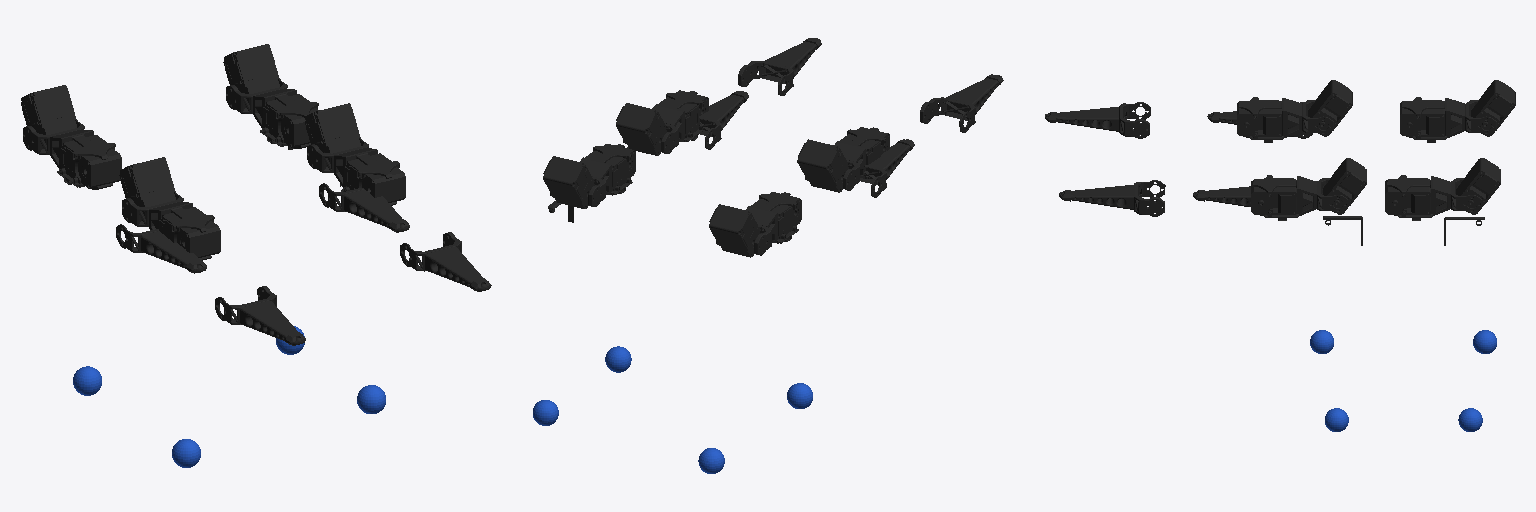
URDF robot description (optimus_primal):
<?xml version="1.0"?>
<robot name="optimus_primal">

  <!--
    Optimus Primal Quadruped URDF
    ================================
    Body frame dimensions (approximate from measurements):
      Rear hip spacing (L-R):  160.255 mm = 0.160255 m
      Front hip spacing (L-R): 131.673 mm = 0.131673 m
      Front-to-rear hip spacing: 181.5 mm = 0.1815 m

    Leg geometry:
      Femur (upper_link): 78 mm = 0.078 m
      Tibia (lower_link): 104 mm = 0.104 m

    Standing pose angles (from servo diff values):
      Hip:  ~35 deg from vertical
      Knee: ~80 deg from hip

    Leg naming convention (from robot's forward-facing perspective):
      FL = front-left, FR = front-right
      RL = rear-left,  RR = rear-right

    TPU sock friction values (TPU on hard floor):
      Sliding friction: 1.0  (typical range 0.8-1.2)
      Torsional:        0.01
      Rolling:          0.002
      condim=4 enables full friction cone
  -->

  <mujoco>
    <compiler balanceinertia="true" discardvisual="true"/>
    <default>
      <!-- Default for all structural geoms (PETG-CF frame, ABS links) -->
      <joint damping="0.05" armature="0.01"/>
      <geom friction="0.6 0.01 0.001" condim="3" contype="1" conaffinity="1"/>
    </default>
    <default class="foot">
      <!-- TPU sock contact: grippy, soft contact, full friction cone -->
      <geom friction="1.0 0.01 0.002"
            condim="4"
            contype="1"
            conaffinity="1"
            solimp="0.9 0.95 0.001"
            solref="0.02 1"/>
    </default>
  </mujoco>

  <!-- ==================== BASE LINK ==================== -->
  <link name="base_link">
    <inertial>
      <mass value="0.672"/>
      <origin xyz="0 0 0" rpy="0 0 0"/>
      <inertia ixx="0.00672" iyy="0.00896" izz="0.01120"
               ixy="0.0"     ixz="0.0"     iyz="0.0"/>
    </inertial>
    <visual>
      <origin xyz="0 0 0" rpy="0 0 0"/>
      <geometry>
        <mesh filename="meshes/base.stl" scale="1 1 1"/>
      </geometry>
      <material name="dark_gray">
        <color rgba="0.2 0.2 0.2 1.0"/>
      </material>
    </visual>
    <collision>
      <origin xyz="0 0 0" rpy="0 0 0"/>
      <geometry>
        <box size="0.22 0.18 0.05"/>
      </geometry>
    </collision>
  </link>

  <!-- ==================== FRONT-LEFT LEG ==================== -->

  <link name="upper_link_fl">
    <inertial>
      <mass value="0.085"/>
      <origin xyz="0 0 -0.039" rpy="0 0 0"/>
      <inertia ixx="0.000050" iyy="0.000085" izz="0.000050"
               ixy="0.0"      ixz="0.0"      iyz="0.0"/>
    </inertial>
    <visual>
      <origin xyz="0 0 0" rpy="0 0 0"/>
      <geometry>
        <mesh filename="meshes/upper_link.stl" scale="1 1 1"/>
      </geometry>
      <material name="dark_gray">
        <color rgba="0.2 0.2 0.2 1.0"/>
      </material>
    </visual>
    <collision>
      <origin xyz="0 0 -0.039" rpy="0 0 0"/>
      <geometry>
        <cylinder radius="0.012" length="0.078"/>
      </geometry>
    </collision>
  </link>

  <link name="lower_link_fl">
    <inertial>
      <mass value="0.065"/>
      <origin xyz="0 0 -0.052" rpy="0 0 0"/>
      <inertia ixx="0.000065" iyy="0.000122" izz="0.000065"
               ixy="0.0"      ixz="0.0"      iyz="0.0"/>
    </inertial>
    <visual>
      <origin xyz="0 0 0" rpy="0 0 0"/>
      <geometry>
        <mesh filename="meshes/lower_link.stl" scale="1 1 1"/>
      </geometry>
      <material name="dark_gray">
        <color rgba="0.2 0.2 0.2 1.0"/>
      </material>
    </visual>
    <collision>
      <origin xyz="0 0 -0.052" rpy="0 0 0"/>
      <geometry>
        <cylinder radius="0.010" length="0.104"/>
      </geometry>
    </collision>
  </link>

  <!-- FL foot — TPU sock sphere -->
  <link name="foot_fl">
    <inertial>
      <mass value="0.005"/>
      <origin xyz="0 0 0" rpy="0 0 0"/>
      <inertia ixx="0.000001" iyy="0.000001" izz="0.000001"
               ixy="0.0"      ixz="0.0"      iyz="0.0"/>
    </inertial>
    <visual>
      <origin xyz="0 0 0" rpy="0 0 0"/>
      <geometry><sphere radius="0.012"/></geometry>
      <material name="tpu_blue"><color rgba="0.2 0.4 0.8 1.0"/></material>
    </visual>
    <collision>
      <origin xyz="0 0 0" rpy="0 0 0"/>
      <geometry><sphere radius="0.012"/></geometry>
    </collision>
  </link>

  <joint name="hip_fl" type="revolute">
    <parent link="base_link"/>
    <child link="upper_link_fl"/>
    <origin xyz="0.0908 0.0658 -0.015" rpy="0 0 0"/>
    <axis xyz="0 1 0"/>
    <limit lower="-1.5708" upper="1.5708" effort="2.5" velocity="5.0"/>
    <dynamics damping="0.05" friction="0.01"/>
  </joint>

  <joint name="knee_fl" type="revolute">
    <parent link="upper_link_fl"/>
    <child link="lower_link_fl"/>
    <origin xyz="0 0 -0.078" rpy="0 0 0"/>
    <axis xyz="0 1 0"/>
    <limit lower="-2.0944" upper="0.0" effort="2.5" velocity="5.0"/>
    <dynamics damping="0.05" friction="0.01"/>
  </joint>

  <joint name="foot_joint_fl" type="fixed">
    <parent link="lower_link_fl"/>
    <child link="foot_fl"/>
    <origin xyz="0 0 -0.104" rpy="0 0 0"/>
  </joint>

  <!-- ==================== FRONT-RIGHT LEG ==================== -->

  <link name="upper_link_fr">
    <inertial>
      <mass value="0.085"/>
      <origin xyz="0 0 -0.039" rpy="0 0 0"/>
      <inertia ixx="0.000050" iyy="0.000085" izz="0.000050"
               ixy="0.0"      ixz="0.0"      iyz="0.0"/>
    </inertial>
    <visual>
      <origin xyz="0 0 0" rpy="0 0 0"/>
      <geometry>
        <mesh filename="meshes/upper_link.stl" scale="1 1 1"/>
      </geometry>
      <material name="dark_gray">
        <color rgba="0.2 0.2 0.2 1.0"/>
      </material>
    </visual>
    <collision>
      <origin xyz="0 0 -0.039" rpy="0 0 0"/>
      <geometry>
        <cylinder radius="0.012" length="0.078"/>
      </geometry>
    </collision>
  </link>

  <link name="lower_link_fr">
    <inertial>
      <mass value="0.065"/>
      <origin xyz="0 0 -0.052" rpy="0 0 0"/>
      <inertia ixx="0.000065" iyy="0.000122" izz="0.000065"
               ixy="0.0"      ixz="0.0"      iyz="0.0"/>
    </inertial>
    <visual>
      <origin xyz="0 0 0" rpy="0 0 0"/>
      <geometry>
        <mesh filename="meshes/lower_link.stl" scale="1 1 1"/>
      </geometry>
      <material name="dark_gray">
        <color rgba="0.2 0.2 0.2 1.0"/>
      </material>
    </visual>
    <collision>
      <origin xyz="0 0 -0.052" rpy="0 0 0"/>
      <geometry>
        <cylinder radius="0.010" length="0.104"/>
      </geometry>
    </collision>
  </link>

  <link name="foot_fr">
    <inertial>
      <mass value="0.005"/>
      <origin xyz="0 0 0" rpy="0 0 0"/>
      <inertia ixx="0.000001" iyy="0.000001" izz="0.000001"
               ixy="0.0"      ixz="0.0"      iyz="0.0"/>
    </inertial>
    <visual>
      <origin xyz="0 0 0" rpy="0 0 0"/>
      <geometry><sphere radius="0.012"/></geometry>
      <material name="tpu_blue"><color rgba="0.2 0.4 0.8 1.0"/></material>
    </visual>
    <collision>
      <origin xyz="0 0 0" rpy="0 0 0"/>
      <geometry><sphere radius="0.012"/></geometry>
    </collision>
  </link>

  <joint name="hip_fr" type="revolute">
    <parent link="base_link"/>
    <child link="upper_link_fr"/>
    <origin xyz="0.0908 -0.0658 -0.015" rpy="0 0 0"/>
    <axis xyz="0 1 0"/>
    <limit lower="-1.5708" upper="1.5708" effort="2.5" velocity="5.0"/>
    <dynamics damping="0.05" friction="0.01"/>
  </joint>

  <joint name="knee_fr" type="revolute">
    <parent link="upper_link_fr"/>
    <child link="lower_link_fr"/>
    <origin xyz="0 0 -0.078" rpy="0 0 0"/>
    <axis xyz="0 1 0"/>
    <limit lower="-2.0944" upper="0.0" effort="2.5" velocity="5.0"/>
    <dynamics damping="0.05" friction="0.01"/>
  </joint>

  <joint name="foot_joint_fr" type="fixed">
    <parent link="lower_link_fr"/>
    <child link="foot_fr"/>
    <origin xyz="0 0 -0.104" rpy="0 0 0"/>
  </joint>

  <!-- ==================== REAR-LEFT LEG ==================== -->

  <link name="upper_link_rl">
    <inertial>
      <mass value="0.085"/>
      <origin xyz="0 0 -0.039" rpy="0 0 0"/>
      <inertia ixx="0.000050" iyy="0.000085" izz="0.000050"
               ixy="0.0"      ixz="0.0"      iyz="0.0"/>
    </inertial>
    <visual>
      <origin xyz="0 0 0" rpy="0 0 0"/>
      <geometry>
        <mesh filename="meshes/upper_link.stl" scale="1 1 1"/>
      </geometry>
      <material name="dark_gray">
        <color rgba="0.2 0.2 0.2 1.0"/>
      </material>
    </visual>
    <collision>
      <origin xyz="0 0 -0.039" rpy="0 0 0"/>
      <geometry>
        <cylinder radius="0.012" length="0.078"/>
      </geometry>
    </collision>
  </link>

  <link name="lower_link_rl">
    <inertial>
      <mass value="0.065"/>
      <origin xyz="0 0 -0.052" rpy="0 0 0"/>
      <inertia ixx="0.000065" iyy="0.000122" izz="0.000065"
               ixy="0.0"      ixz="0.0"      iyz="0.0"/>
    </inertial>
    <visual>
      <origin xyz="0 0 0" rpy="0 0 0"/>
      <geometry>
        <mesh filename="meshes/lower_link.stl" scale="1 1 1"/>
      </geometry>
      <material name="dark_gray">
        <color rgba="0.2 0.2 0.2 1.0"/>
      </material>
    </visual>
    <collision>
      <origin xyz="0 0 -0.052" rpy="0 0 0"/>
      <geometry>
        <cylinder radius="0.010" length="0.104"/>
      </geometry>
    </collision>
  </link>

  <link name="foot_rl">
    <inertial>
      <mass value="0.005"/>
      <origin xyz="0 0 0" rpy="0 0 0"/>
      <inertia ixx="0.000001" iyy="0.000001" izz="0.000001"
               ixy="0.0"      ixz="0.0"      iyz="0.0"/>
    </inertial>
    <visual>
      <origin xyz="0 0 0" rpy="0 0 0"/>
      <geometry><sphere radius="0.012"/></geometry>
      <material name="tpu_blue"><color rgba="0.2 0.4 0.8 1.0"/></material>
    </visual>
    <collision>
      <origin xyz="0 0 0" rpy="0 0 0"/>
      <geometry><sphere radius="0.012"/></geometry>
    </collision>
  </link>

  <joint name="hip_rl" type="revolute">
    <parent link="base_link"/>
    <child link="upper_link_rl"/>
    <origin xyz="-0.0908 0.0801 -0.015" rpy="0 0 0"/>
    <axis xyz="0 1 0"/>
    <limit lower="-1.5708" upper="1.5708" effort="2.5" velocity="5.0"/>
    <dynamics damping="0.05" friction="0.01"/>
  </joint>

  <joint name="knee_rl" type="revolute">
    <parent link="upper_link_rl"/>
    <child link="lower_link_rl"/>
    <origin xyz="0 0 -0.078" rpy="0 0 0"/>
    <axis xyz="0 1 0"/>
    <limit lower="-2.0944" upper="0.0" effort="2.5" velocity="5.0"/>
    <dynamics damping="0.05" friction="0.01"/>
  </joint>

  <joint name="foot_joint_rl" type="fixed">
    <parent link="lower_link_rl"/>
    <child link="foot_rl"/>
    <origin xyz="0 0 -0.104" rpy="0 0 0"/>
  </joint>

  <!-- ==================== REAR-RIGHT LEG ==================== -->

  <link name="upper_link_rr">
    <inertial>
      <mass value="0.085"/>
      <origin xyz="0 0 -0.039" rpy="0 0 0"/>
      <inertia ixx="0.000050" iyy="0.000085" izz="0.000050"
               ixy="0.0"      ixz="0.0"      iyz="0.0"/>
    </inertial>
    <visual>
      <origin xyz="0 0 0" rpy="0 0 0"/>
      <geometry>
        <mesh filename="meshes/upper_link.stl" scale="1 1 1"/>
      </geometry>
      <material name="dark_gray">
        <color rgba="0.2 0.2 0.2 1.0"/>
      </material>
    </visual>
    <collision>
      <origin xyz="0 0 -0.039" rpy="0 0 0"/>
      <geometry>
        <cylinder radius="0.012" length="0.078"/>
      </geometry>
    </collision>
  </link>

  <link name="lower_link_rr">
    <inertial>
      <mass value="0.065"/>
      <origin xyz="0 0 -0.052" rpy="0 0 0"/>
      <inertia ixx="0.000065" iyy="0.000122" izz="0.000065"
               ixy="0.0"      ixz="0.0"      iyz="0.0"/>
    </inertial>
    <visual>
      <origin xyz="0 0 0" rpy="0 0 0"/>
      <geometry>
        <mesh filename="meshes/lower_link.stl" scale="1 1 1"/>
      </geometry>
      <material name="dark_gray">
        <color rgba="0.2 0.2 0.2 1.0"/>
      </material>
    </visual>
    <collision>
      <origin xyz="0 0 -0.052" rpy="0 0 0"/>
      <geometry>
        <cylinder radius="0.010" length="0.104"/>
      </geometry>
    </collision>
  </link>

  <link name="foot_rr">
    <inertial>
      <mass value="0.005"/>
      <origin xyz="0 0 0" rpy="0 0 0"/>
      <inertia ixx="0.000001" iyy="0.000001" izz="0.000001"
               ixy="0.0"      ixz="0.0"      iyz="0.0"/>
    </inertial>
    <visual>
      <origin xyz="0 0 0" rpy="0 0 0"/>
      <geometry><sphere radius="0.012"/></geometry>
      <material name="tpu_blue"><color rgba="0.2 0.4 0.8 1.0"/></material>
    </visual>
    <collision>
      <origin xyz="0 0 0" rpy="0 0 0"/>
      <geometry><sphere radius="0.012"/></geometry>
    </collision>
  </link>

  <joint name="hip_rr" type="revolute">
    <parent link="base_link"/>
    <child link="upper_link_rr"/>
    <origin xyz="-0.0908 -0.0801 -0.015" rpy="0 0 0"/>
    <axis xyz="0 1 0"/>
    <limit lower="-1.5708" upper="1.5708" effort="2.5" velocity="5.0"/>
    <dynamics damping="0.05" friction="0.01"/>
  </joint>

  <joint name="knee_rr" type="revolute">
    <parent link="upper_link_rr"/>
    <child link="lower_link_rr"/>
    <origin xyz="0 0 -0.078" rpy="0 0 0"/>
    <axis xyz="0 1 0"/>
    <limit lower="-2.0944" upper="0.0" effort="2.5" velocity="5.0"/>
    <dynamics damping="0.05" friction="0.01"/>
  </joint>

  <joint name="foot_joint_rr" type="fixed">
    <parent link="lower_link_rr"/>
    <child link="foot_rr"/>
    <origin xyz="0 0 -0.104" rpy="0 0 0"/>
  </joint>

</robot>

--- Facts derived from the render (not from the file) ---
Views: 3 orthographic renders of the robot side by side, from view 1: azimuth 30°, elevation 25°; view 2: azimuth 150°, elevation 25°; view 3: azimuth 270°, elevation 25°.
Model optimus_primal with 13 links and 12 joints (8 revolute, 4 fixed), rooted at base_link, posed every joint at zero.
Links seen in each view (by area): view 1: upper_link_rl, upper_link_fr, upper_link_fl, upper_link_rr, lower_link_fr, lower_link_rr, lower_link_fl, lower_link_rl, foot_rl, foot_fr, foot_rr; view 2: upper_link_rl, upper_link_fl, upper_link_fr, upper_link_rr, lower_link_fr, lower_link_rr, lower_link_fl, lower_link_rl, foot_rl, foot_fr, foot_rr, foot_fl; view 3: upper_link_fr, upper_link_fl, upper_link_rl, upper_link_rr, lower_link_rr, lower_link_fr, lower_link_fl.
Boxes of the visible links, x1=… form: upper_link_rl: x1=21, y1=85, x2=121, y2=189; upper_link_fr: x1=305, y1=103, x2=405, y2=205; upper_link_fl: x1=223, y1=44, x2=318, y2=148; upper_link_rr: x1=119, y1=157, x2=220, y2=260; lower_link_fr: x1=400, y1=232, x2=491, y2=291; lower_link_rr: x1=215, y1=286, x2=305, y2=345; lower_link_fl: x1=319, y1=183, x2=409, y2=232; lower_link_rl: x1=116, y1=224, x2=206, y2=273; foot_rl: x1=73, y1=366, x2=101, y2=395; foot_fr: x1=357, y1=385, x2=385, y2=413; foot_rr: x1=172, y1=439, x2=200, y2=467; upper_link_rl: x1=709, y1=192, x2=801, y2=257; upper_link_fl: x1=543, y1=144, x2=635, y2=208; upper_link_fr: x1=616, y1=90, x2=708, y2=155; upper_link_rr: x1=797, y1=127, x2=889, y2=192; lower_link_fr: x1=738, y1=38, x2=821, y2=95; lower_link_rr: x1=920, y1=74, x2=1003, y2=132; lower_link_fl: x1=699, y1=91, x2=748, y2=149; lower_link_rl: x1=860, y1=139, x2=914, y2=197; foot_rl: x1=698, y1=448, x2=724, y2=473; foot_fr: x1=605, y1=346, x2=631, y2=372; foot_rr: x1=787, y1=383, x2=812, y2=408; foot_fl: x1=533, y1=400, x2=558, y2=425; upper_link_fr: x1=1251, y1=158, x2=1366, y2=220; upper_link_fl: x1=1385, y1=158, x2=1500, y2=220; upper_link_rl: x1=1400, y1=80, x2=1515, y2=142; upper_link_rr: x1=1237, y1=80, x2=1352, y2=142; lower_link_rr: x1=1045, y1=102, x2=1150, y2=138; lower_link_fr: x1=1059, y1=180, x2=1165, y2=216; lower_link_fl: x1=1193, y1=186, x2=1250, y2=206.
Bounding box of the posed robot: 0.2642 × 0.463 × 0.276 m (x, y, z).
Meshes: 3 distinct files referenced, 9 mesh visuals loaded (3 binary STL).
